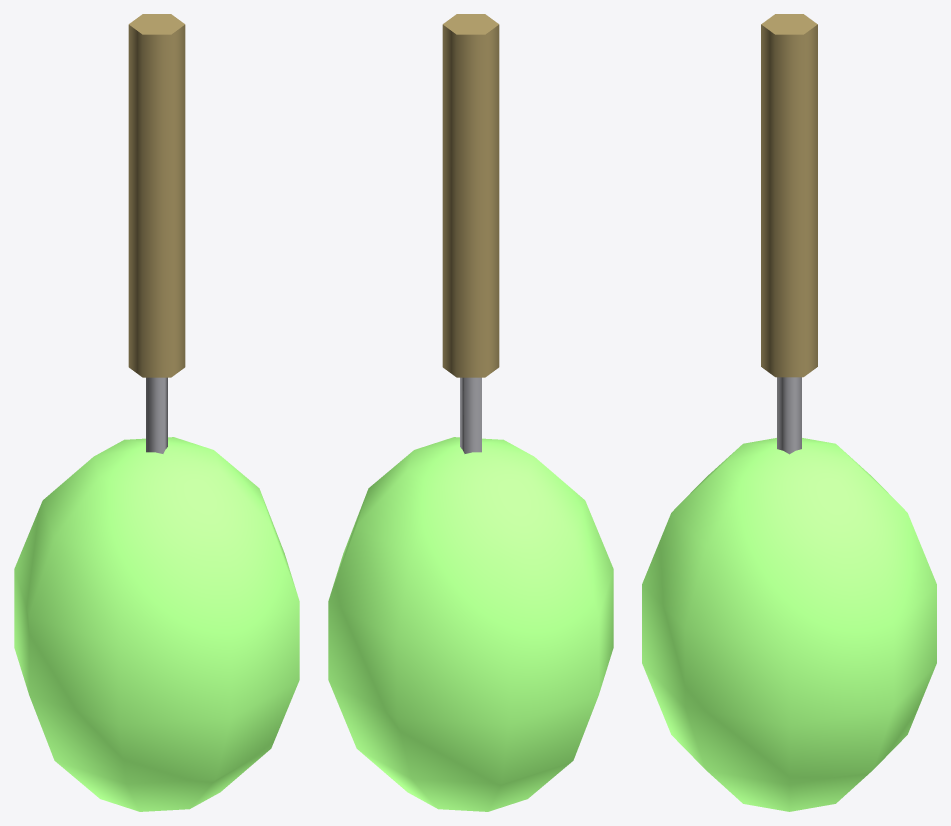
File: avoflail.glb
3 views of the same model, side by side, from view 1: azimuth 30°, elevation 25°; view 2: azimuth 150°, elevation 25°; view 3: azimuth 270°, elevation 25° (orthographic).
Size of the model in its own units: 0.468 by 1.36 by 0.468.
